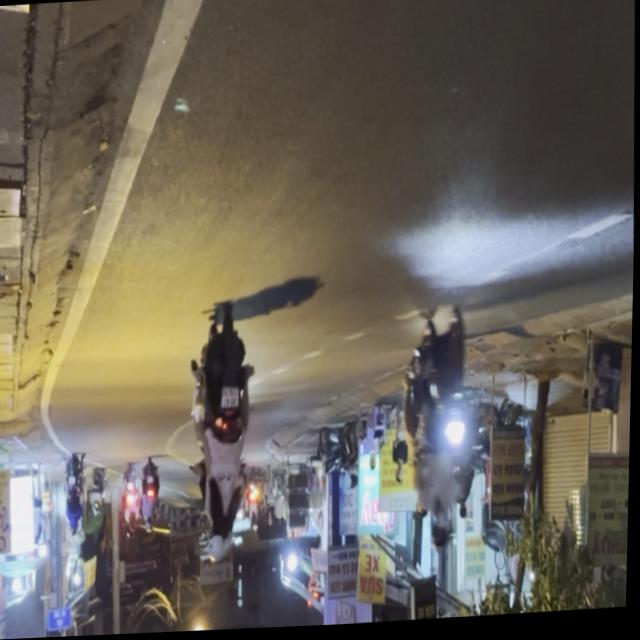helmet: (433, 513, 456, 556), (209, 525, 233, 565)
licenseplate: (396, 306, 484, 566), (187, 308, 262, 570)
nohelmet: (223, 389, 241, 411)
